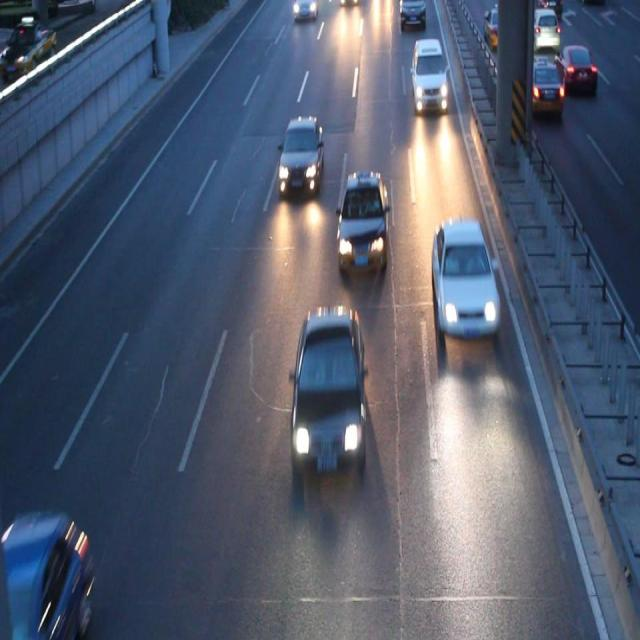car: (1, 511, 92, 640), (295, 311, 364, 464), (432, 220, 498, 333), (339, 174, 383, 264), (280, 115, 323, 188), (518, 61, 562, 111), (551, 49, 594, 90), (518, 8, 557, 47), (482, 8, 516, 44), (399, 1, 425, 24), (535, 1, 560, 17), (294, 1, 316, 17)
truck: (410, 40, 446, 110)
